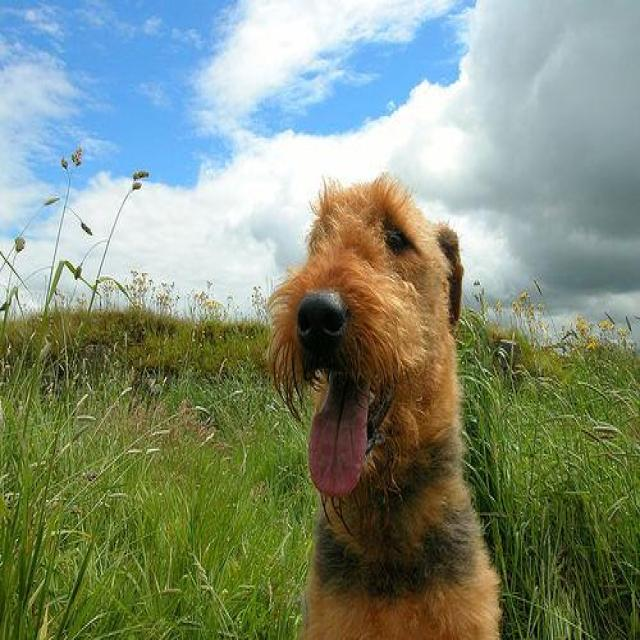airedale: (264, 176, 504, 638)
